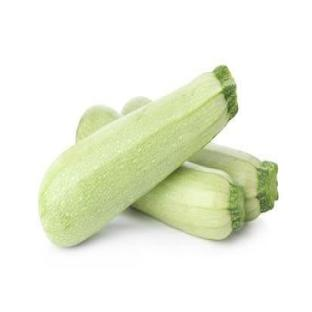Zucchini: (39, 66, 237, 245), (132, 162, 244, 239), (189, 143, 278, 220)
